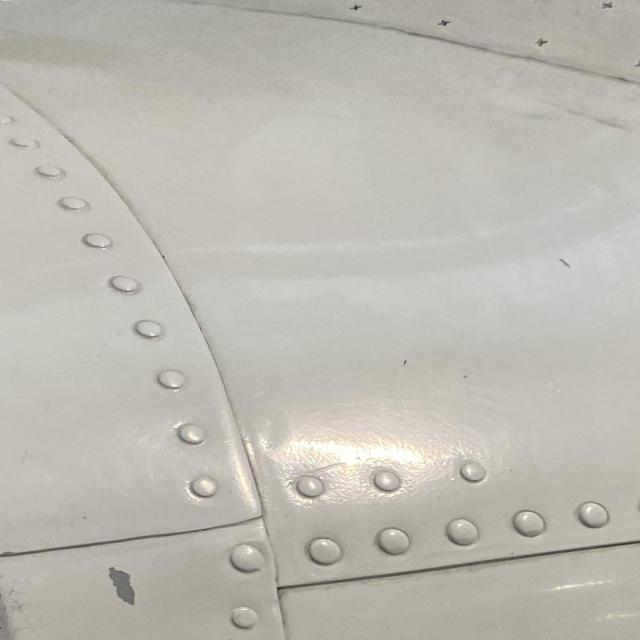Paint-off: (106, 566, 135, 604)
